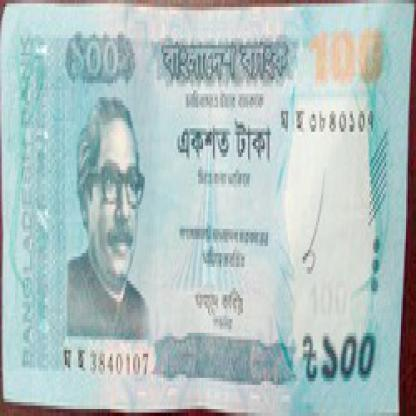one hundred taka: (306, 17, 394, 94), (318, 319, 383, 395), (53, 31, 140, 87)
